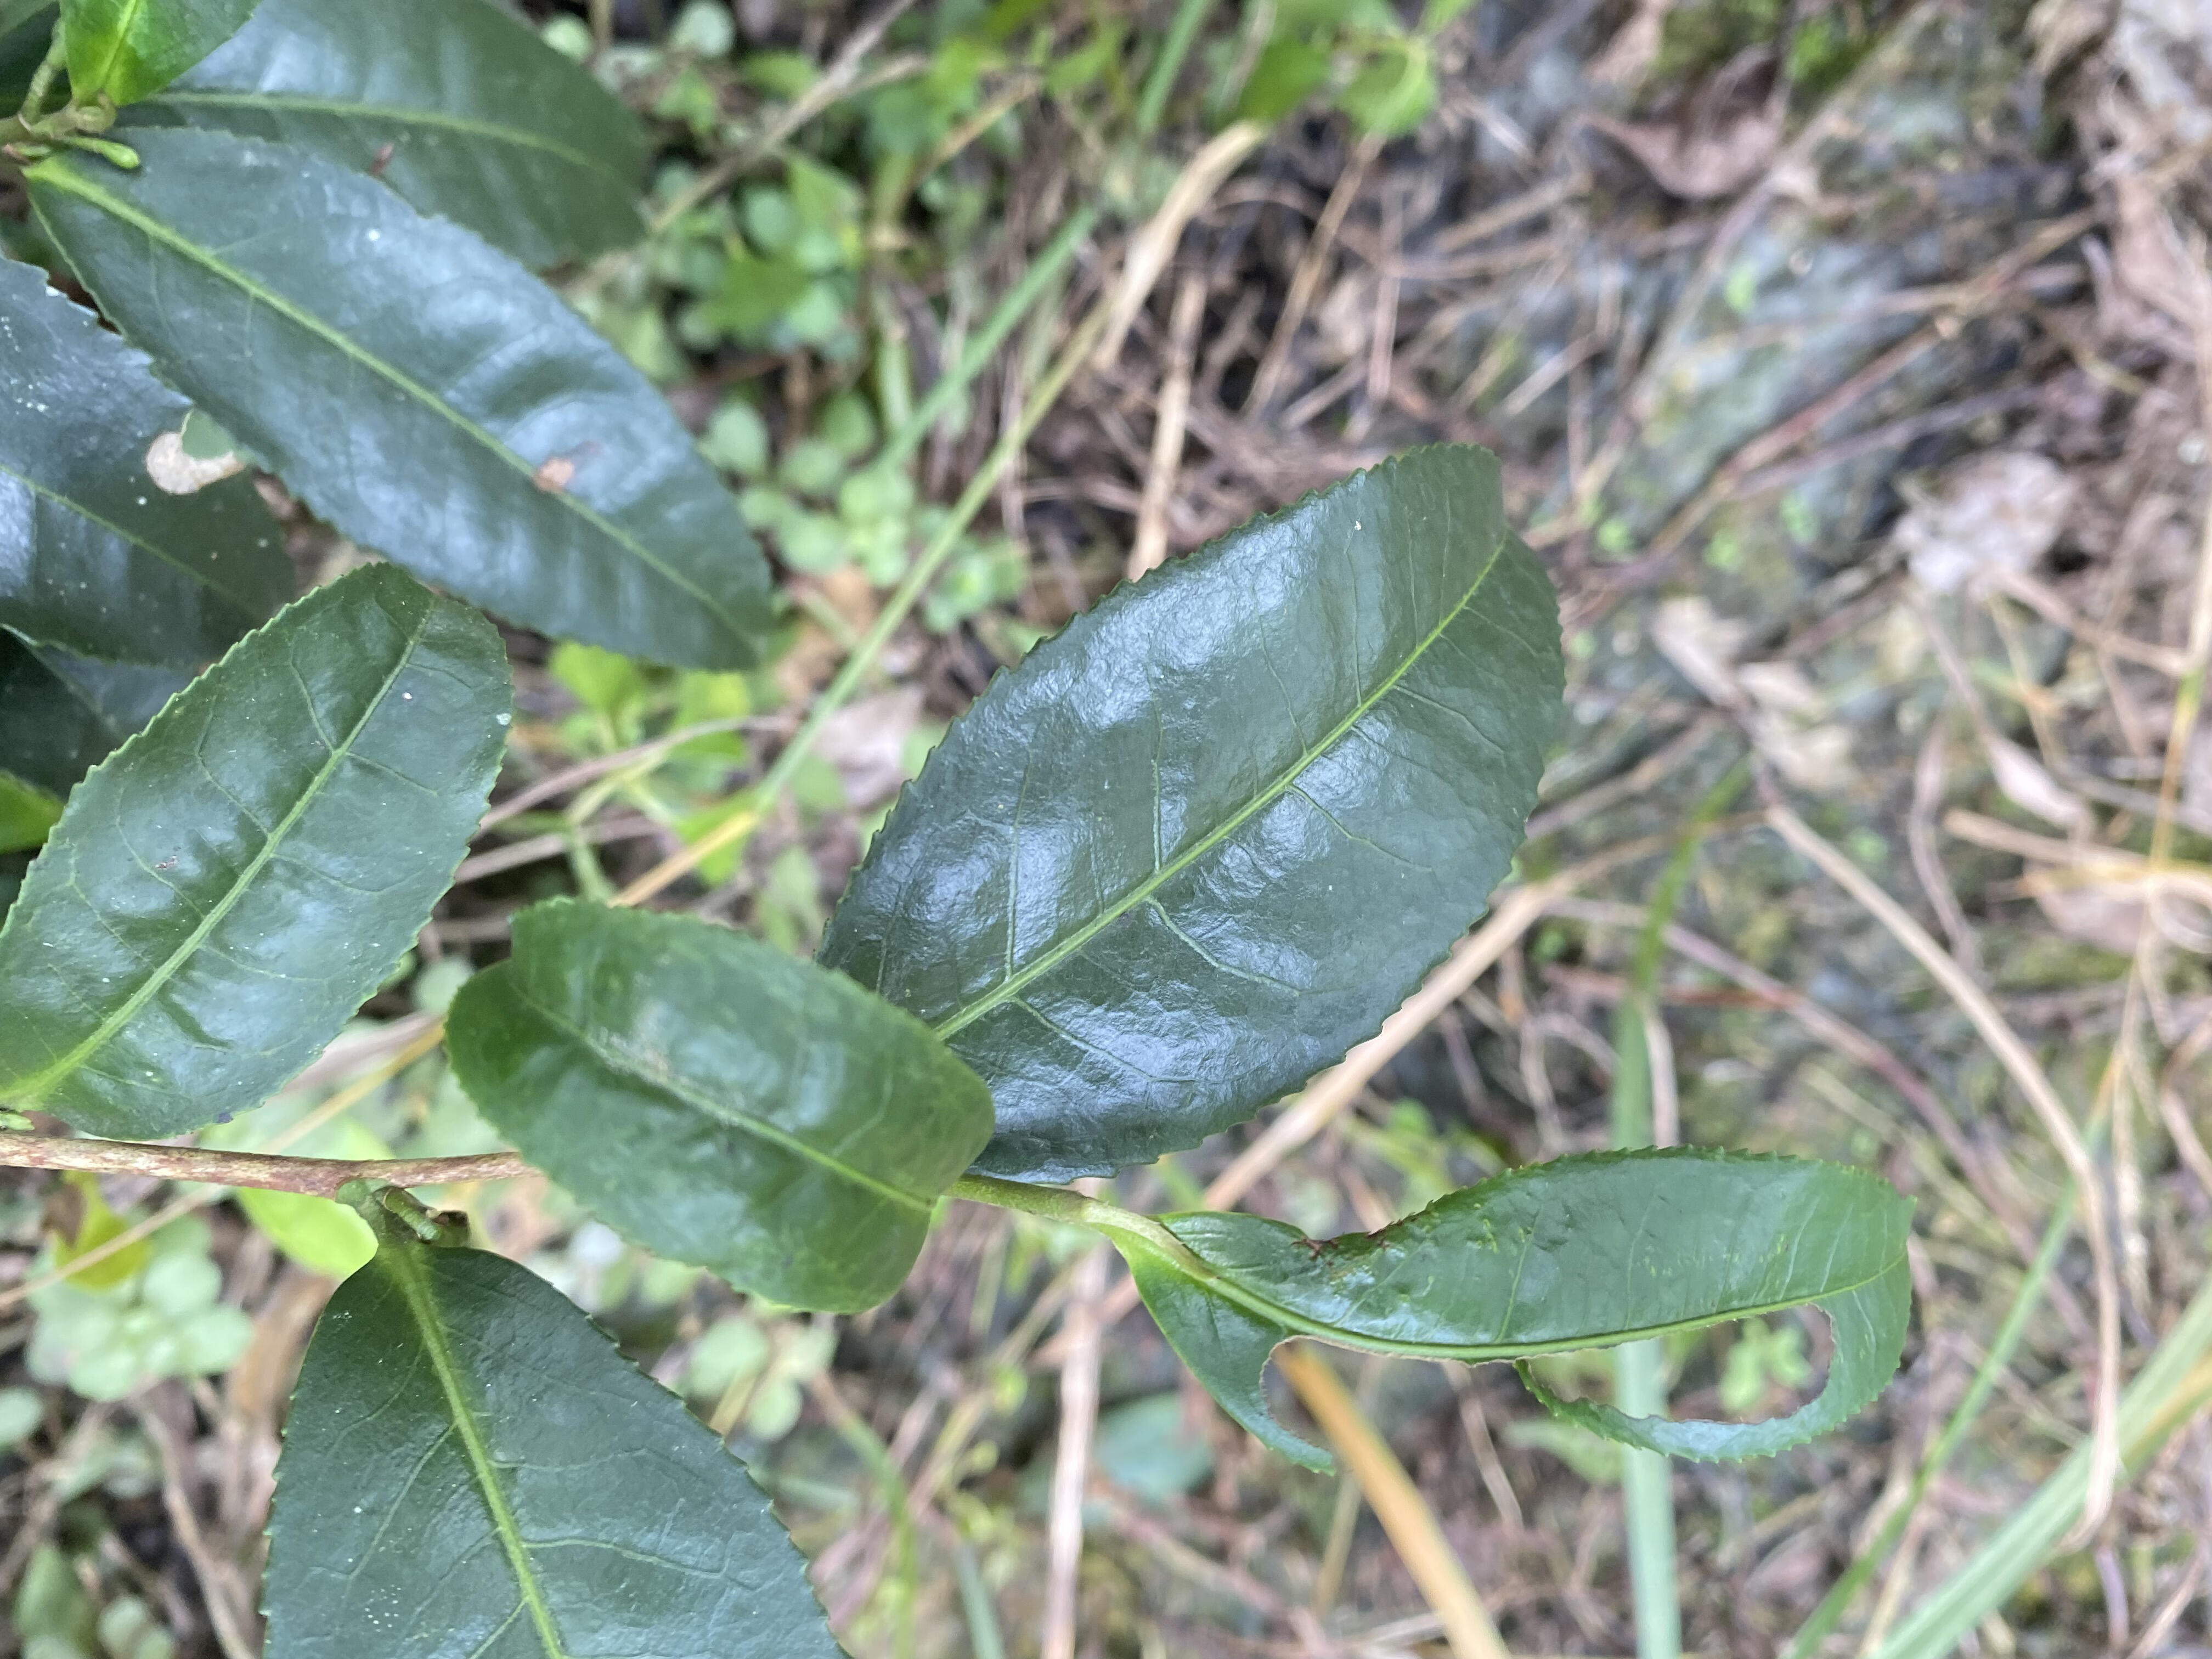chihuo_high: (1125, 1145, 1919, 1481)
tanju_low: (24, 124, 770, 667)
